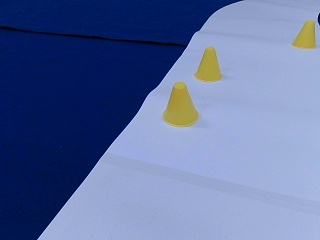cone: (164, 83, 198, 126), (195, 48, 222, 81), (291, 21, 315, 49)
